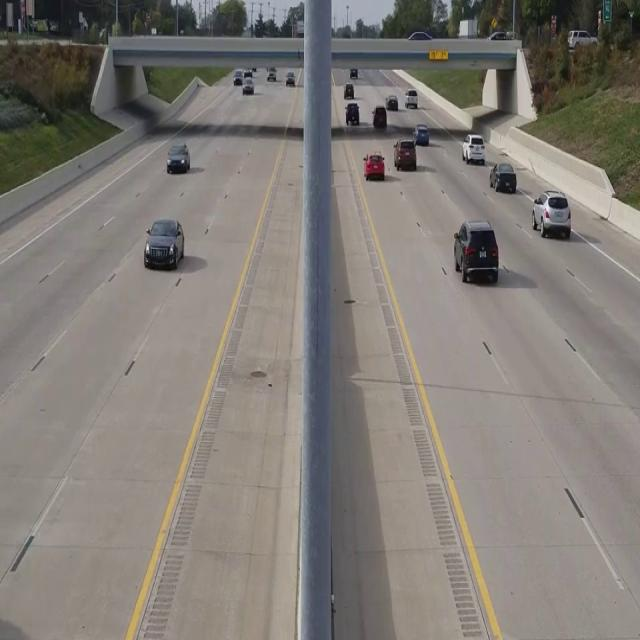car: (452, 220, 498, 284), (143, 218, 184, 270), (531, 190, 571, 240), (489, 162, 516, 192), (166, 142, 190, 173), (461, 134, 485, 163), (364, 153, 385, 180)
